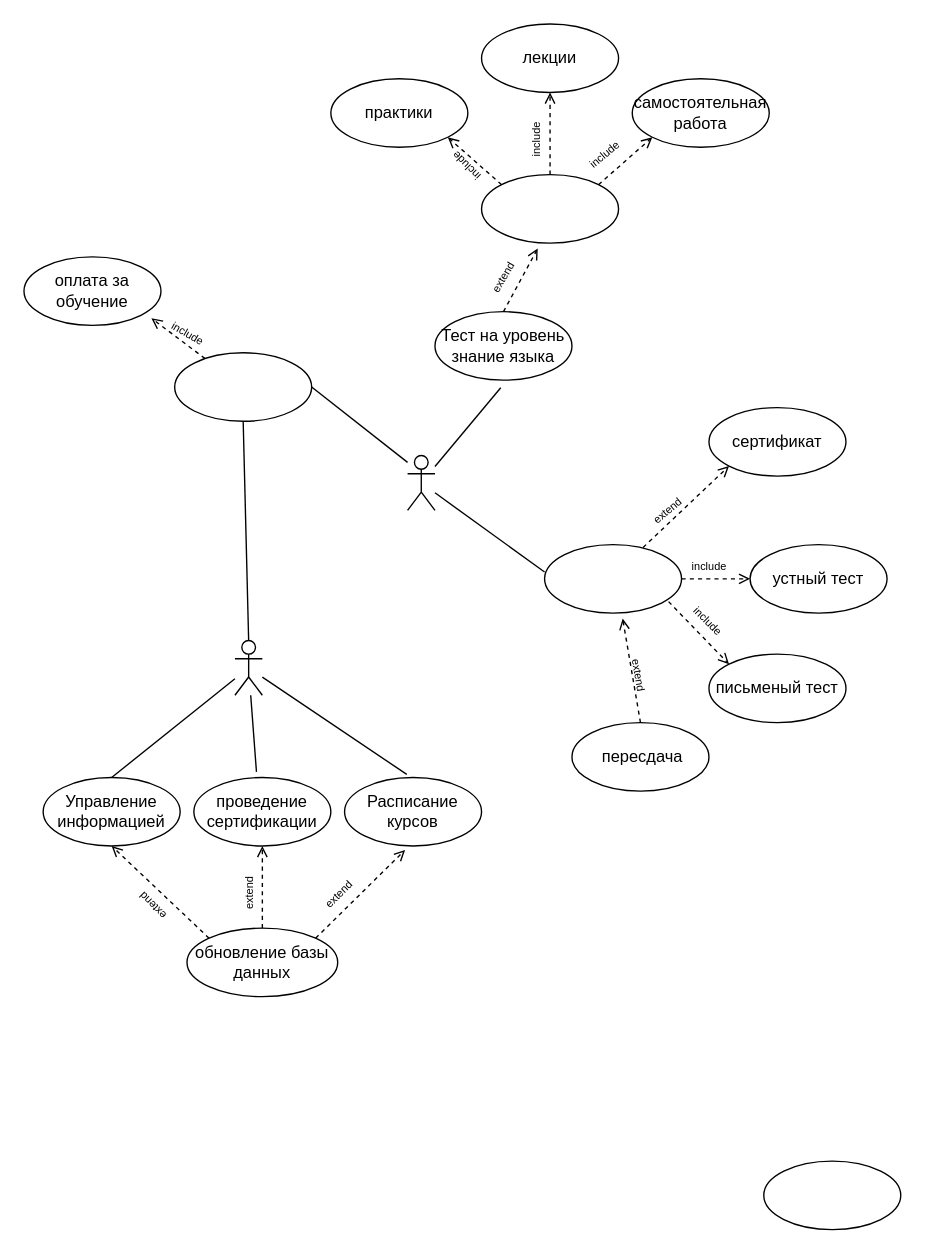
This 925x1254 diagram has some shape labels left out. Each missing label, with the centre of its shape:
выдача зарплаты: (x=831, y=1195)
курс обучения A1-C2: (x=549, y=208)
регистрация: (x=242, y=386)
Студент: (x=420, y=482)
учебные персоналы: (x=248, y=667)
экзамен: (x=612, y=578)
